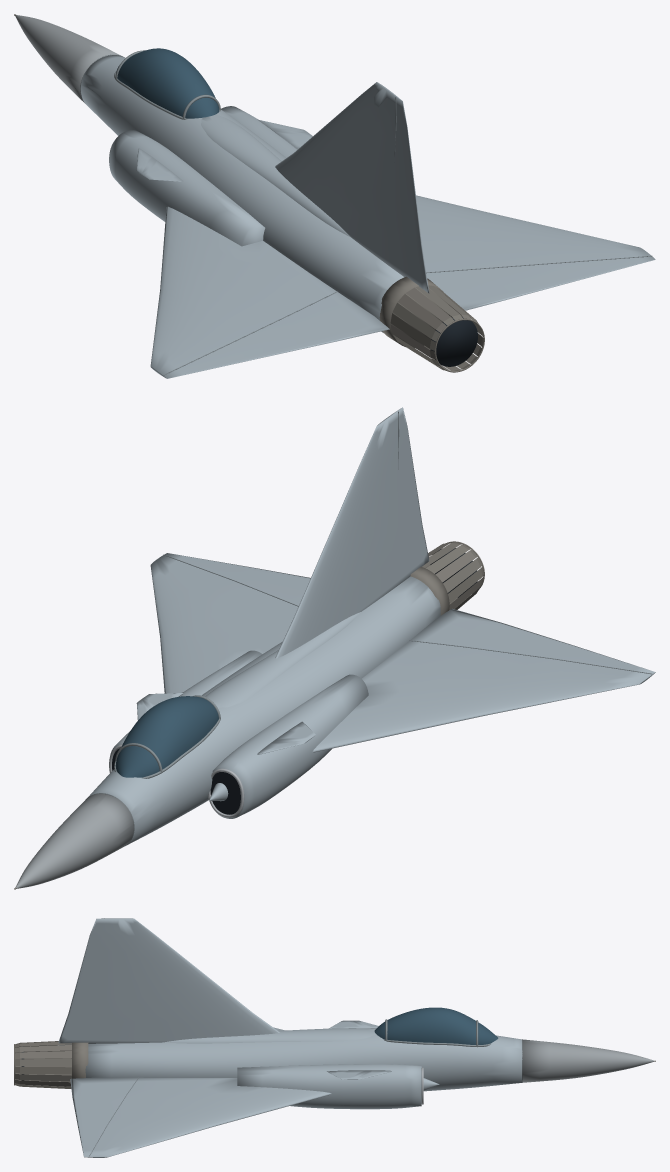
3 renders of one model, top to bottom at view 1: azimuth 30°, elevation 25°; view 2: azimuth 150°, elevation 25°; view 3: azimuth 270°, elevation 25°, orthographic. The views are drawn at different scales.
Parts seen in each view (by area): view 1: static.airframe | neutral grey, static.nozzle titanium, static.tinted canopy, static.dielectric radome, static.deep recess, static.panel seams, static.canopy frame; view 2: static.airframe | neutral grey, static.dielectric radome, static.tinted canopy, static.nozzle titanium, static.deep recess, static.panel seams; view 3: static.airframe | neutral grey, static.dielectric radome, static.nozzle titanium, static.tinted canopy, static.canopy frame.
Part boxes in pixels (<box>): static.airframe | neutral grey: <box>81,55,655,378</box>; static.nozzle titanium: <box>14,14,484,372</box>; static.tinted canopy: <box>116,48,219,118</box>; static.dielectric radome: <box>15,15,120,101</box>; static.deep recess: <box>430,316,477,366</box>; static.panel seams: <box>80,54,652,375</box>; static.canopy frame: <box>114,50,220,119</box>; static.airframe | neutral grey: <box>87,407,655,845</box>; static.dielectric radome: <box>15,793,133,888</box>; static.tinted canopy: <box>115,696,218,777</box>; static.nozzle titanium: <box>14,541,484,889</box>; static.deep recess: <box>112,548,477,814</box>; static.panel seams: <box>85,411,651,843</box>; static.airframe | neutral grey: <box>58,918,522,1157</box>; static.dielectric radome: <box>522,1039,654,1082</box>; static.nozzle titanium: <box>14,1041,655,1088</box>; static.tinted canopy: <box>374,1007,498,1044</box>; static.canopy frame: <box>383,1019,491,1047</box>.
Size of the model in its own units: 9.13 by 4.26 by 14.41.
